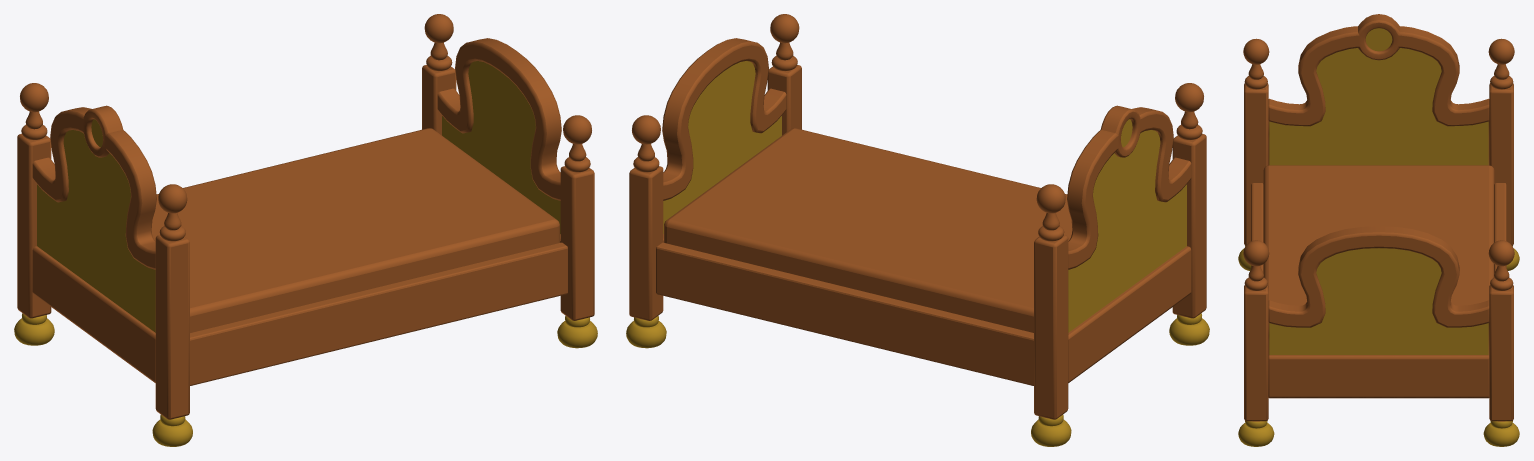
File: Bed.glb
3 renders of one model, left to right at view 1: azimuth 30°, elevation 25°; view 2: azimuth 150°, elevation 25°; view 3: azimuth 270°, elevation 25°, orthographic. The views are drawn at different scales.
Visible parts, largest first — view 1: Bed; view 2: Bed; view 3: Bed.
Part boxes in pixels (x1=…): Bed: x1=14, y1=14, x2=597, y2=446; Bed: x1=626, y1=14, x2=1209, y2=446; Bed: x1=1238, y1=14, x2=1519, y2=446.
Size of the model in its own units: 1.95 by 1.19 by 1.22.
